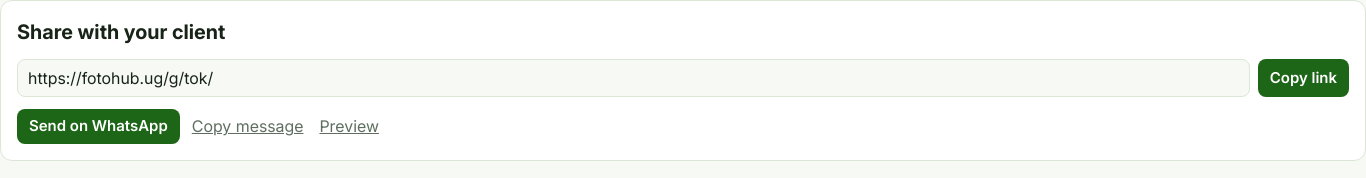
Test: copy buttons put the link or the message on the clipboard
The width and height of the screenshot is (1366, 178).
Click the button "Copy link".
click(1303, 78)  # box [1258,59,1349,97]
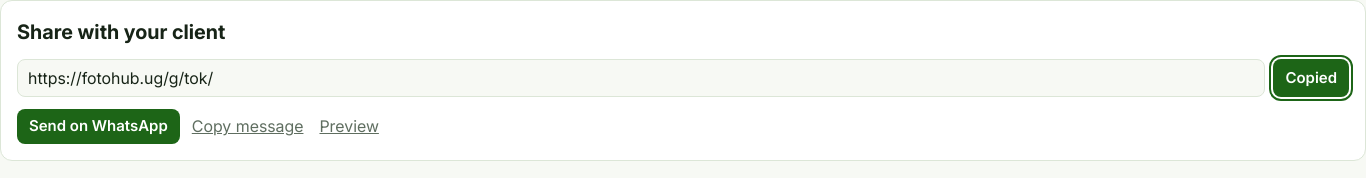
Now the button "Copied" is shown, box [1274,59,1349,97]
Click the button "Copy message".
click(248, 126)  # box [188,110,308,142]
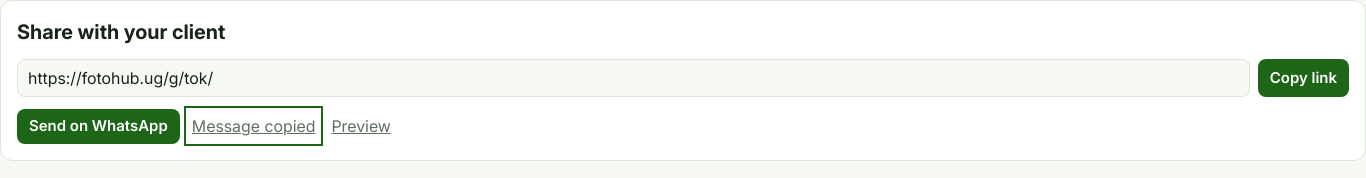
Now the button "Message copied" is shown, box [188,110,320,142]
